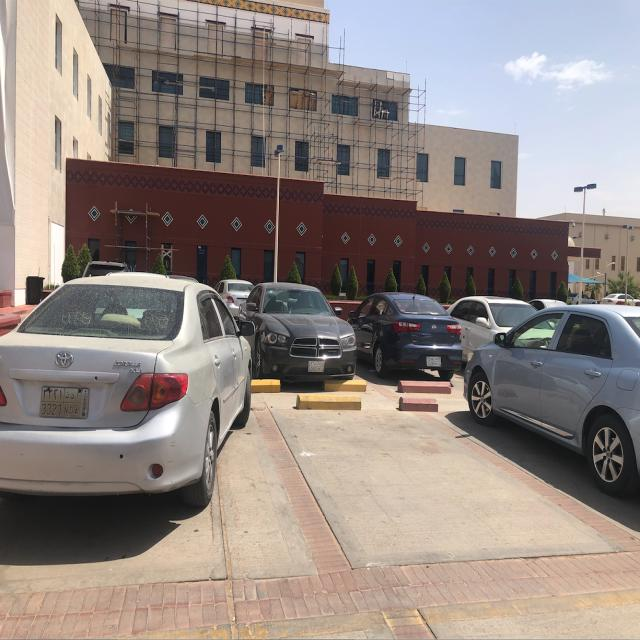license_plate: (39, 384, 92, 418), (308, 359, 324, 372), (424, 355, 442, 366)
